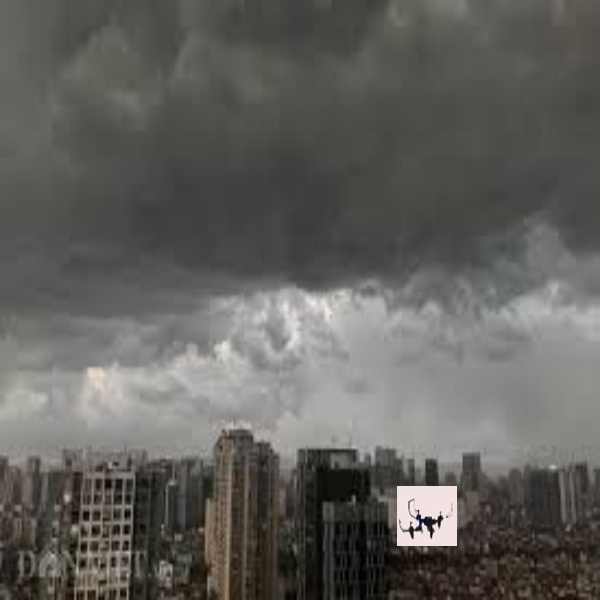drone: (397, 487, 456, 543)
